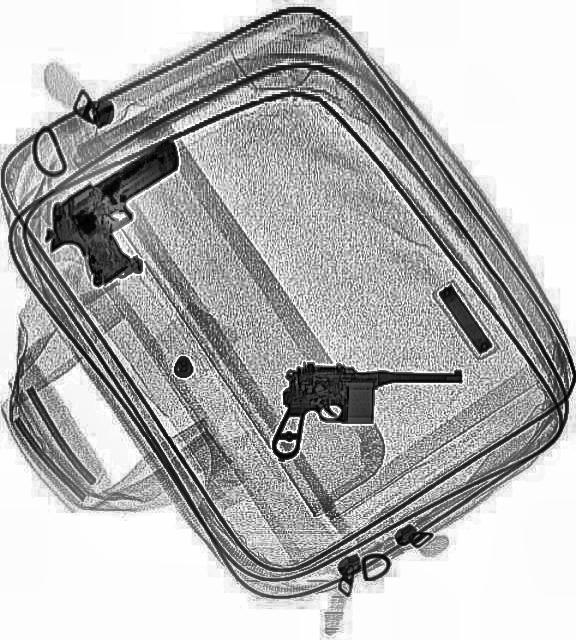Gun: (29, 132, 217, 298), (271, 360, 463, 462)
